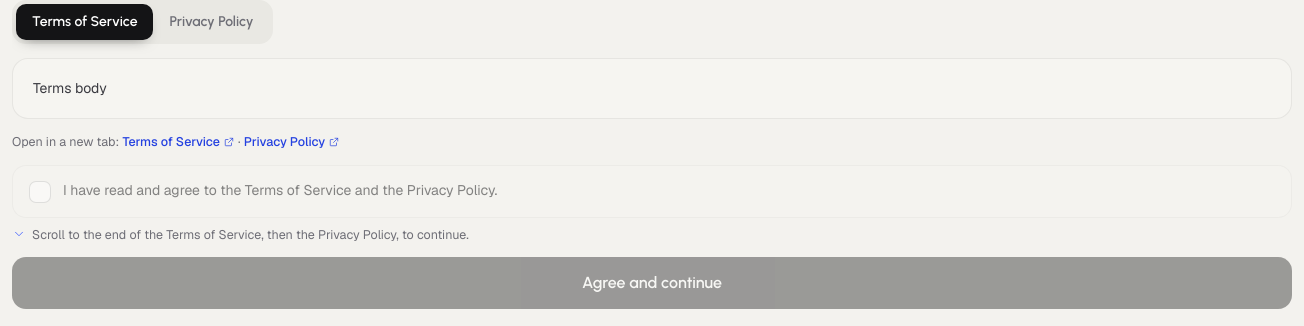
Test case: AgreementForm › lets the person switch documents by hand at any time
This screenshot has width=1304, height=326.
Step 1. Click the button "Privacy Policy" → point(212, 22), box [154,4,270,40]
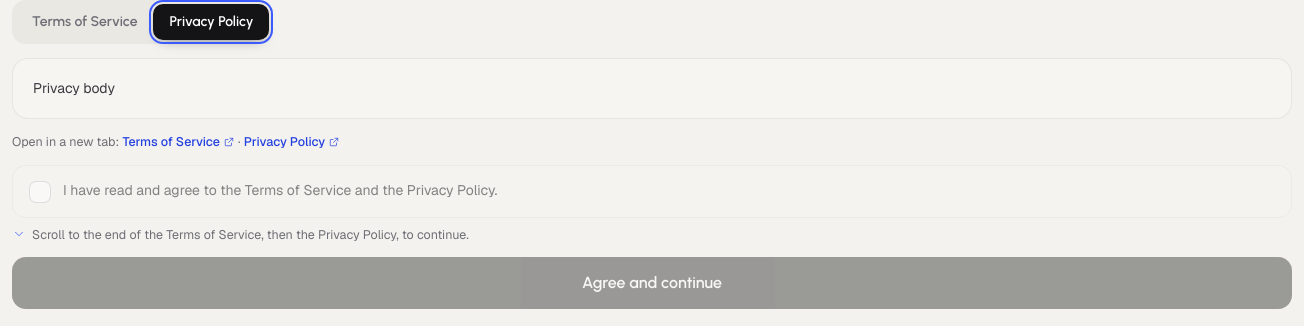
Expected: the element named "Privacy Policy" reads "Privacy body", [33,79,115,97]
Step 2. Click the button "Terms of Service" → point(85, 22), box [16,4,154,40]
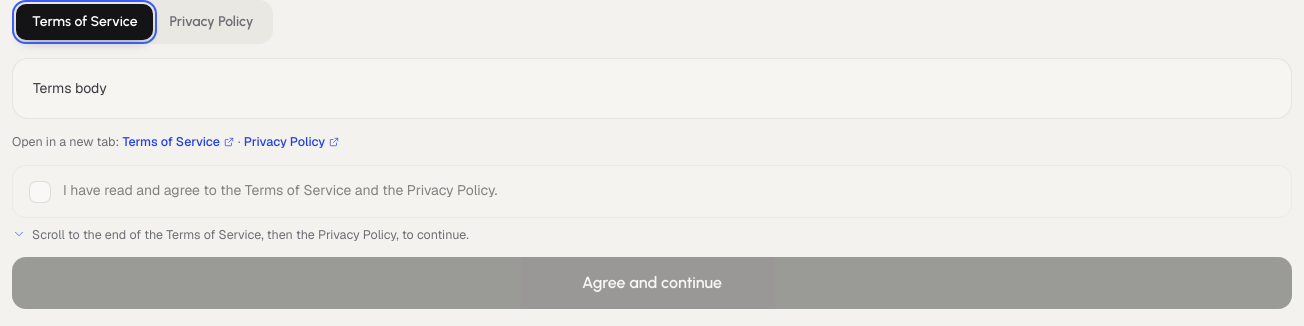
Expected: the element named "Terms of Service" reads "Terms body", [33,79,107,97]
